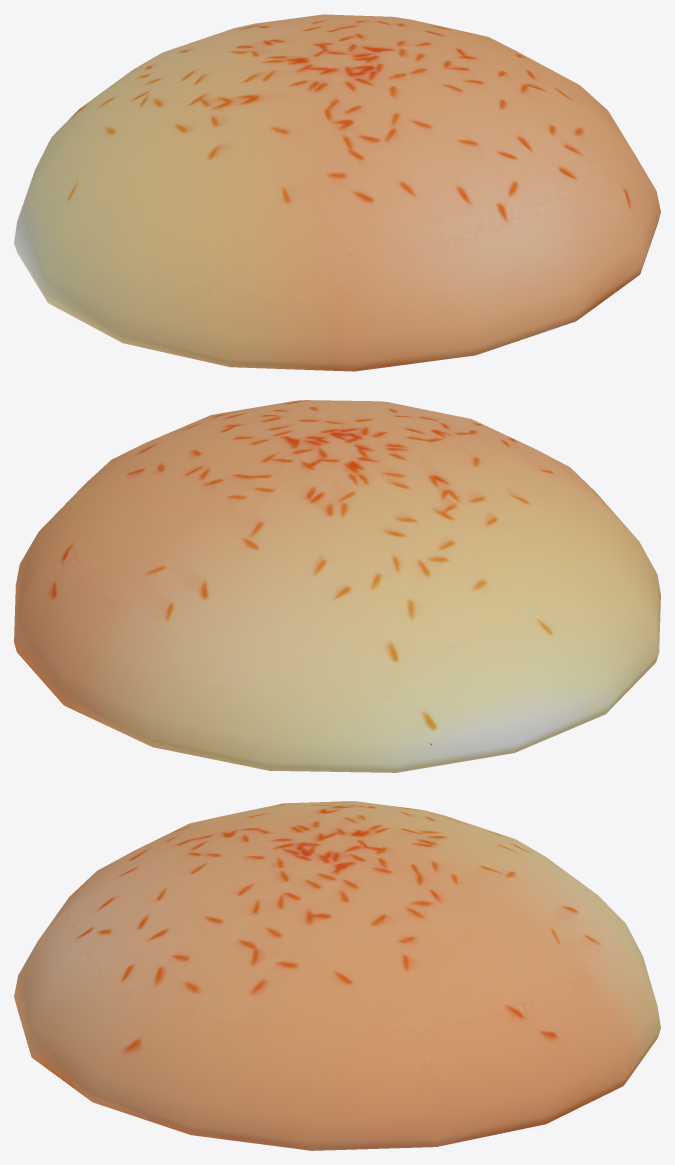
Rendered from burger-top.glb.
3 views of the same model, one above another, from view 1: azimuth 30°, elevation 25°; view 2: azimuth 150°, elevation 25°; view 3: azimuth 270°, elevation 25° (orthographic).
Parts seen in each view (by area): view 1: bun_top.001; view 2: bun_top.001; view 3: bun_top.001.
Part boxes in pixels (bbox=[...]): bun_top.001: bbox=[14, 14, 660, 371]; bun_top.001: bbox=[14, 400, 660, 772]; bun_top.001: bbox=[14, 801, 660, 1150].
Size of the model in its own units: 1.54 by 0.4981 by 1.54.
Materials: 2 (2 with a texture image).
